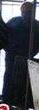gloves: (0, 0, 14, 19), (0, 0, 11, 11)
hard-hat: (0, 3, 20, 35)
ppe-suit: (0, 0, 20, 55)
